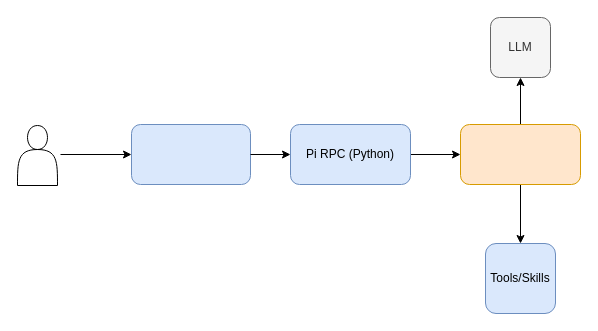
Some shapes in this 598 by 331 pixel diagram are drawn without their labels. The centre of each missing label's shape, as x and y in pixels:
"Channel (Telegram) Dispatcher" belongs at (x=190, y=154).
"Pi Agent" belongs at (x=520, y=154).
